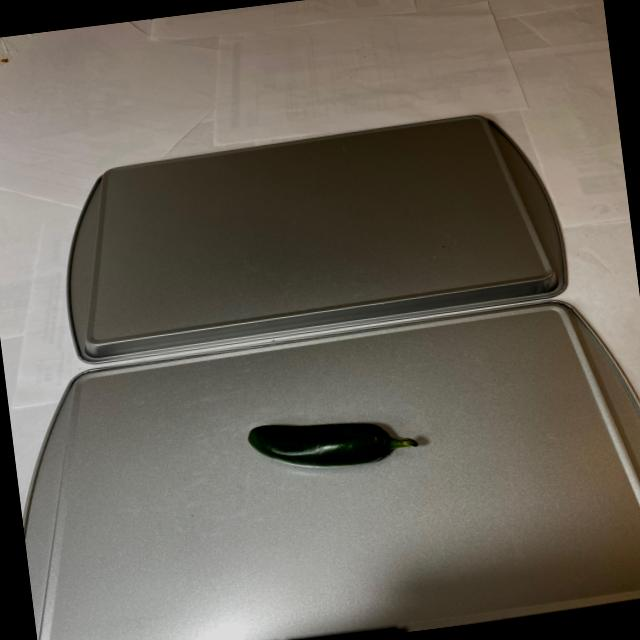chilli: (232, 392, 444, 483)
